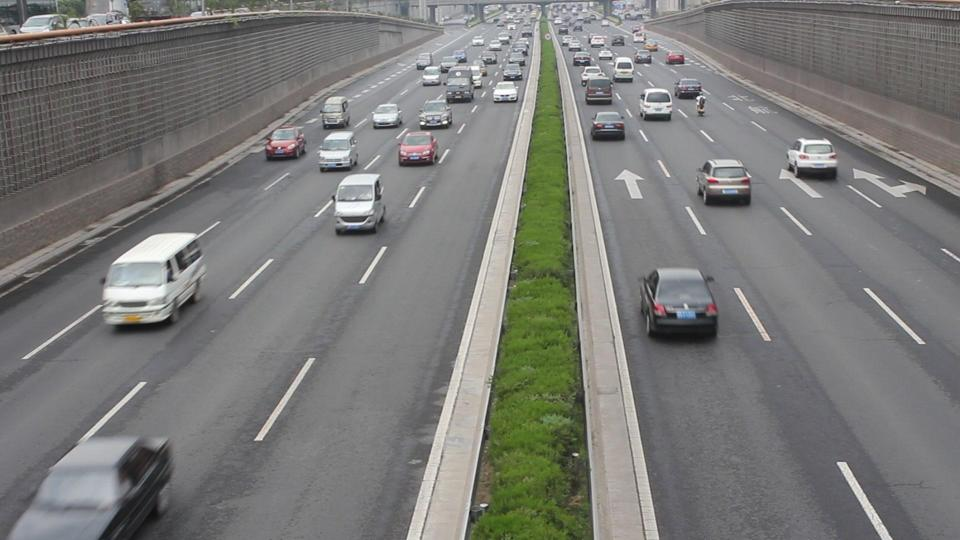Car: (17, 433, 174, 540), (638, 267, 716, 337), (694, 157, 750, 205), (786, 137, 835, 178), (397, 131, 438, 167), (266, 125, 305, 160), (419, 99, 452, 129), (590, 111, 625, 139), (372, 103, 400, 127)
Minivan: (101, 232, 202, 325), (335, 174, 384, 232), (318, 130, 357, 169), (638, 87, 673, 120), (321, 95, 349, 127), (583, 77, 610, 103)
